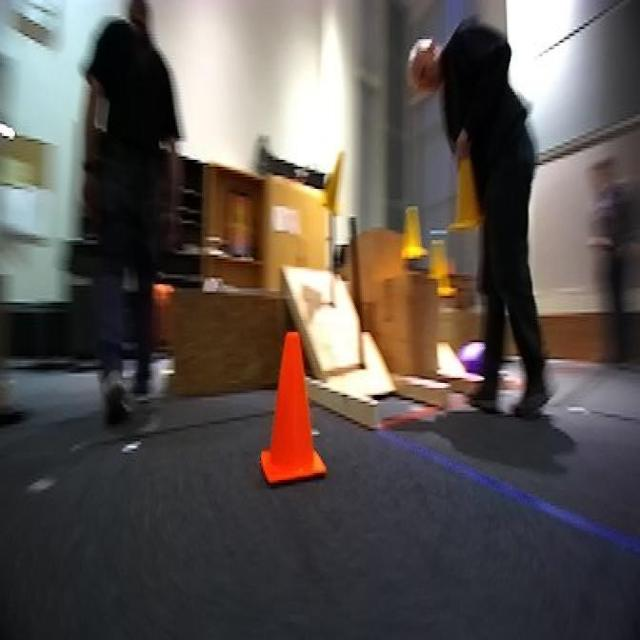frc_cone: (455, 148, 484, 228), (390, 201, 414, 274), (428, 228, 453, 298), (321, 155, 346, 213)
frc_cube: (456, 342, 483, 373)
